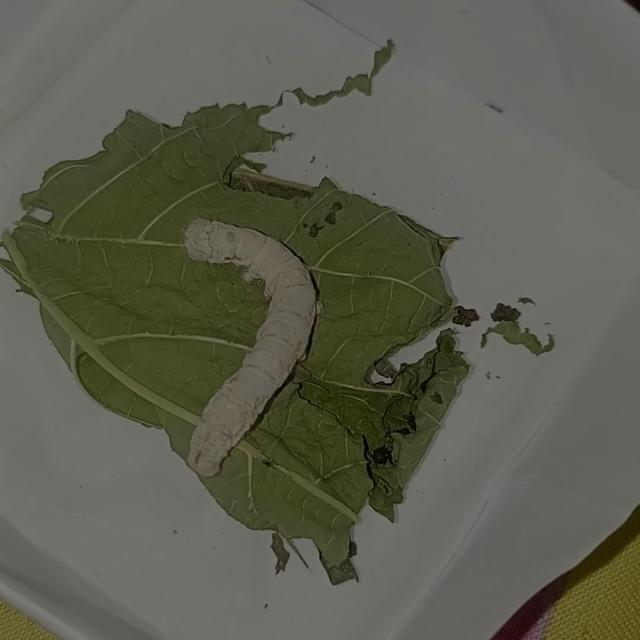Healthy: (171, 211, 320, 485)
